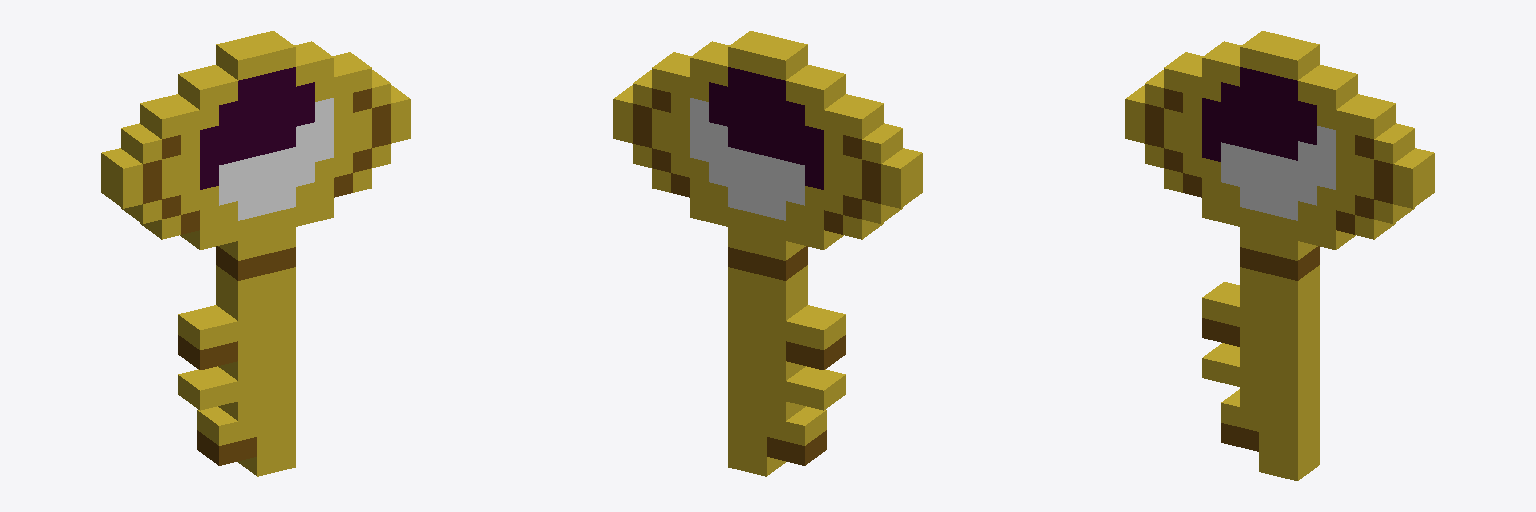
3 renders of one model, left to right at view 1: azimuth 30°, elevation 25°; view 2: azimuth 150°, elevation 25°; view 3: azimuth 330°, elevation 25°, orthographic.
Parts seen in each view (by area): view 1: object 1; view 2: object 1; view 3: object 1.
Boxes of the visible parts, x1=… form: object 1: x1=101, y1=31, x2=410, y2=476; object 1: x1=613, y1=31, x2=922, y2=476; object 1: x1=1125, y1=31, x2=1434, y2=480.
Size of the model in its own units: 1.5 by 2.1 by 0.2.
1 materials, 1 textured.